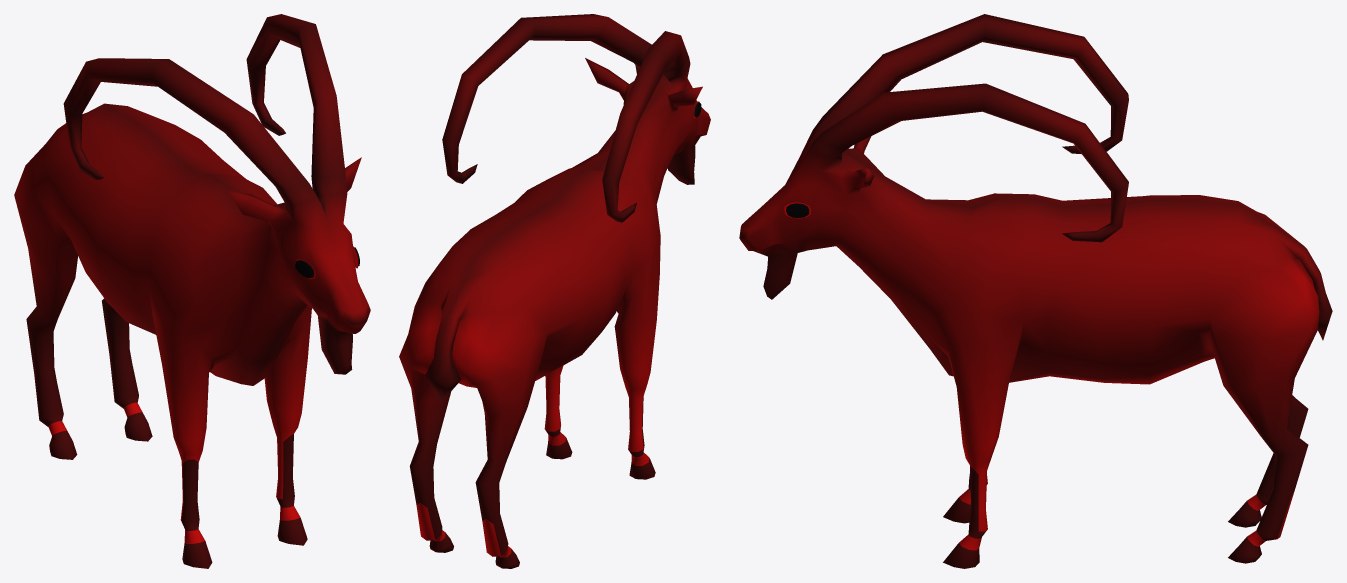
Rendered from Animals_Ibex.fbx.
3 views of the same model, side by side, from view 1: azimuth 30°, elevation 25°; view 2: azimuth 150°, elevation 25°; view 3: azimuth 270°, elevation 25° (orthographic). The views are drawn at different scales.
Parts seen in each view (by area): view 1: base; view 2: base; view 3: base.
Boxes of the visible parts, bbox=[...] form: base: bbox=[14, 14, 370, 568]; base: bbox=[399, 14, 710, 568]; base: bbox=[739, 14, 1332, 568].
Size of the model in its own units: 77.6 by 187 by 206.
